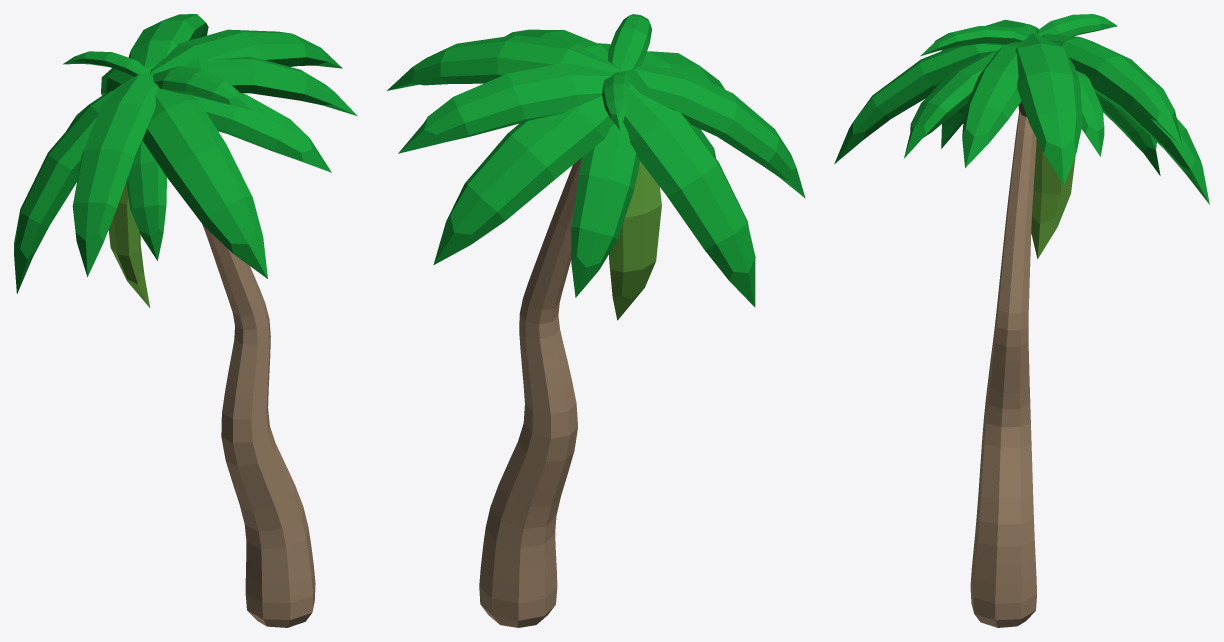
Rendered from lpset_tree_coconut.glb.
3 views of the same model, side by side, from view 1: azimuth 30°, elevation 25°; view 2: azimuth 150°, elevation 25°; view 3: azimuth 270°, elevation 25° (orthographic). The views are drawn at different scales.
Parts seen in each view (by area): view 1: lpset_tree_coconut; view 2: lpset_tree_coconut; view 3: lpset_tree_coconut.
Boxes of the visible parts, x1,y1,x2,y2 form: lpset_tree_coconut: [14, 14, 357, 627]; lpset_tree_coconut: [387, 14, 805, 627]; lpset_tree_coconut: [834, 14, 1209, 627].
Bounding box in the file's own units: 0.8663 × 1.42 × 0.877.
